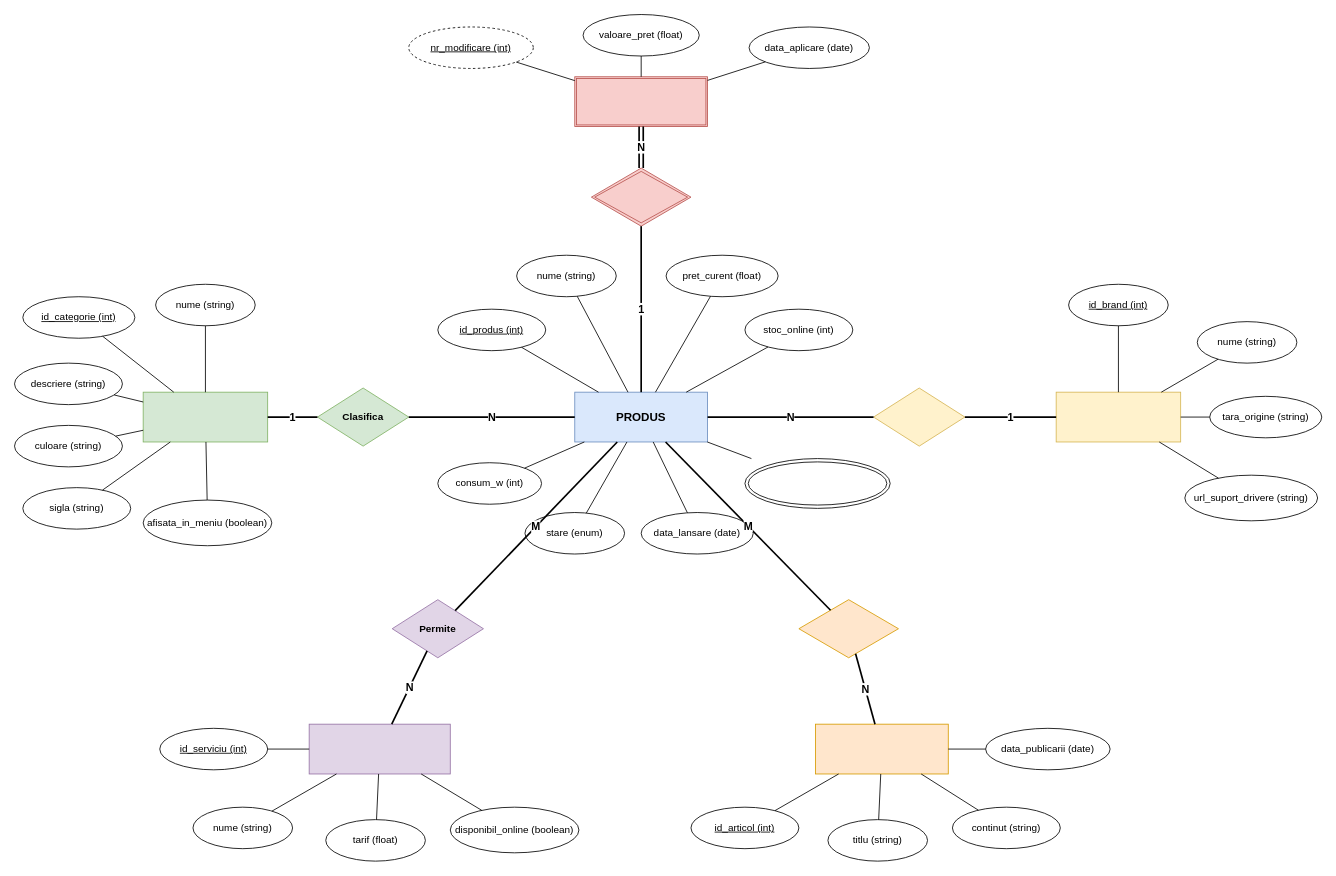
Some shapes in this 1336 by 876 pixel diagram are drawn without their labels. Here are the shapes that lost their labels. From the top down, the box of each, then its label:
(574, 76, 708, 127): ISTORIC_PRET
(591, 167, 691, 226): Inregistreaza
(142, 391, 268, 442): CATEGORIE
(873, 387, 965, 446): Produce
(1055, 391, 1181, 442): BRAND
(744, 458, 890, 508): interfete_conectare (vector[string])
(798, 599, 898, 658): Prezentat_In
(308, 723, 450, 774): SERVICIU_ADITIONAL
(815, 723, 948, 774): ARTICOL_BLOG
